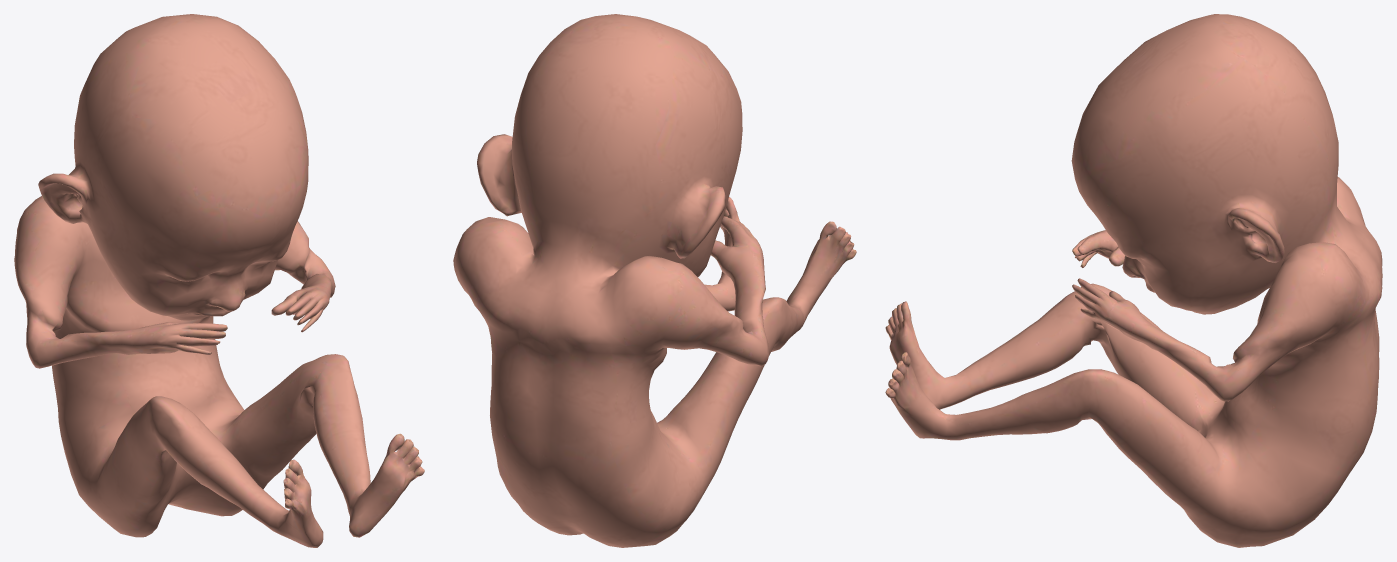
3 views of the same model, side by side, from view 1: azimuth 30°, elevation 25°; view 2: azimuth 150°, elevation 25°; view 3: azimuth 270°, elevation 25° (orthographic).
Visible parts, largest first — view 1: Baby; view 2: Baby; view 3: Baby.
Part boxes in pixels (left/top/right/bottom): Baby: left=14, top=14, right=424, bottom=547; Baby: left=453, top=14, right=856, bottom=547; Baby: left=885, top=14, right=1382, bottom=547.
Bounding box in the file's own units: 0.1192 × 0.1913 × 0.1721.
Materials: 1 (1 with a texture image).
